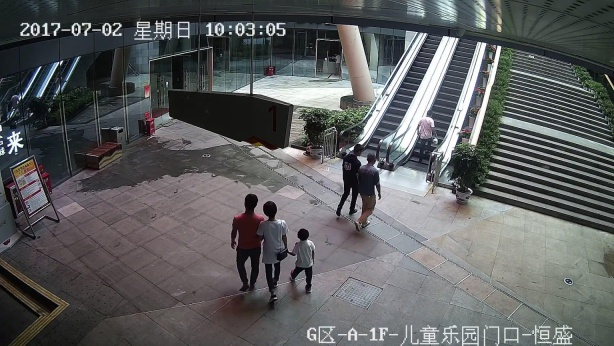person: (229, 186, 266, 299), (262, 200, 290, 291), (291, 226, 323, 294), (339, 136, 358, 222), (362, 152, 381, 230), (417, 108, 436, 156)
